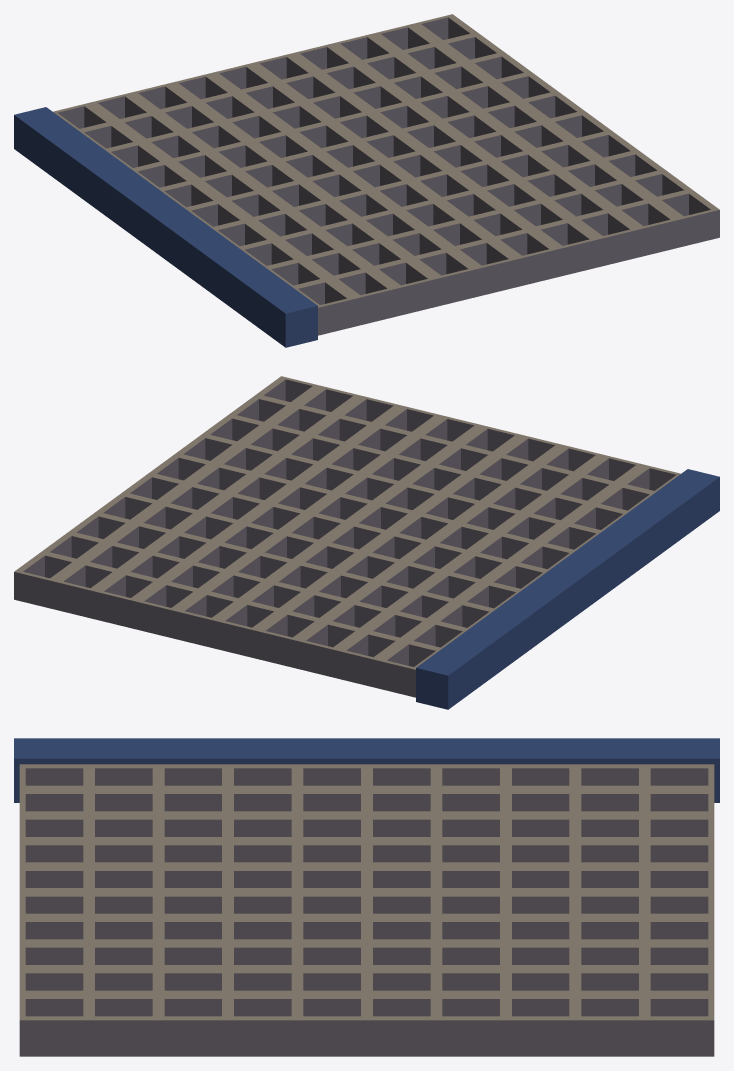
The model's file is Lava_Moving_Platform.fbx.
3 views of the same model, one above another, from view 1: azimuth 30°, elevation 25°; view 2: azimuth 150°, elevation 25°; view 3: azimuth 270°, elevation 25° (orthographic). The views are drawn at different scales.
Parts seen in each view (by area): view 1: Moving Platform; view 2: Moving Platform; view 3: Moving Platform.
Part boxes in pixels (<box>): Moving Platform: <box>14,14,719,347</box>; Moving Platform: <box>14,376,719,709</box>; Moving Platform: <box>14,738,719,1056</box>.
Size of the model in its own units: 4.47 by 0.3344 by 4.82.
